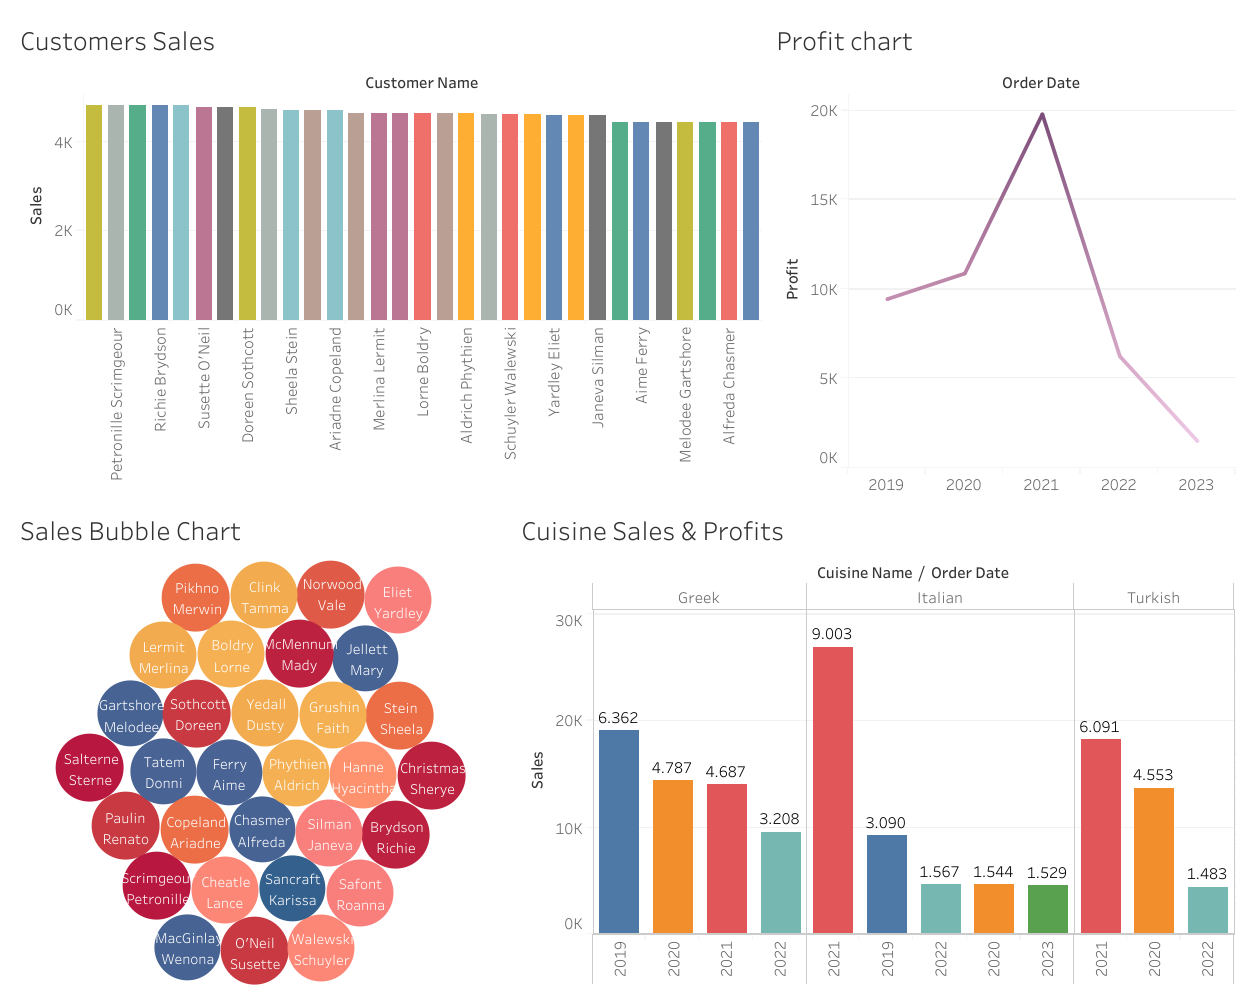

What the dashboard file says about the page in this screenshot:
{"tool":"tableau","page":{"name":"Dashboard 1","canvas":[1000,800],"ordinal":0},"visuals":[{"type":"worksheet","title":"Customers Sales","mark":"Automatic","rows":["Sales"],"cols":["Customer Name"],"box":[8,8,605,392]},{"type":"worksheet","title":"Profit chart","mark":"Automatic","rows":["Calculation_1055587738820793"],"cols":["Order Date"],"box":[613,8,379,392]},{"type":"worksheet","title":"Sales Bubble Chart","mark":"Circle","box":[8,400,401,392]},{"type":"worksheet","title":"Cuisine Sales & Profits","mark":"Bar","rows":["Sales"],"cols":["Cuisine Name","Order Date"],"box":[409,400,583,392]}]}

Visuals, with their boxes in screenshot pixels (x1, y1, x2, y2), scaled from the page's 1000x800 canvas onto the 1249x999 screenshot:
"Customers Sales" worksheet: x1=10 y1=10 x2=766 y2=500
"Profit chart" worksheet: x1=766 y1=10 x2=1239 y2=500
"Sales Bubble Chart" worksheet (Circle marks): x1=10 y1=500 x2=511 y2=989
"Cuisine Sales & Profits" worksheet (Bar marks): x1=511 y1=500 x2=1239 y2=989
